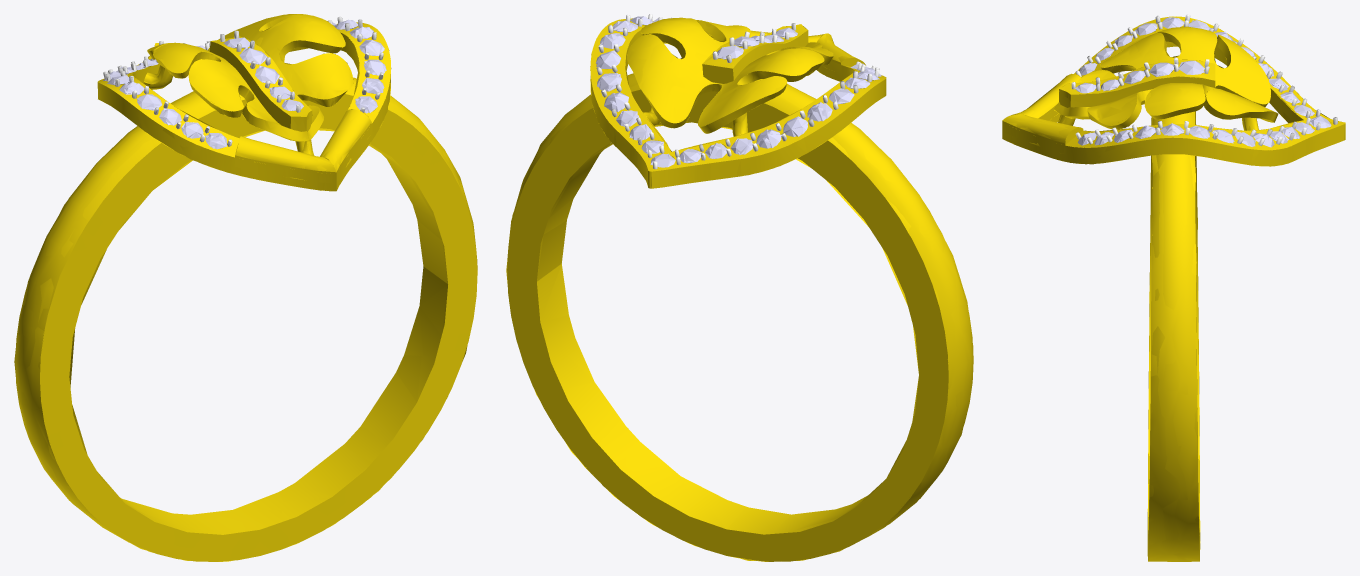
The model's file is DLR-D000657509.glb.
The picture shows the model from 3 angles, left to right: view 1: azimuth 30°, elevation 25°; view 2: azimuth 150°, elevation 25°; view 3: azimuth 270°, elevation 25°; orthographic projection. The views are drawn at different scales.
Visible parts, largest first — view 1: highPolyMesh, lowPolyMesh; view 2: lowPolyMesh, highPolyMesh; view 3: highPolyMesh, lowPolyMesh.
Part boxes in pixels (left/top/right/bottom): highPolyMesh: left=15, top=14, right=477, bottom=561; lowPolyMesh: left=14, top=14, right=477, bottom=561; lowPolyMesh: left=506, top=15, right=973, bottom=561; highPolyMesh: left=507, top=14, right=973, bottom=561; highPolyMesh: left=1002, top=14, right=1345, bottom=561; lowPolyMesh: left=1002, top=14, right=1345, bottom=561.
Size of the model in its own units: 0.0209 by 0.0223 by 0.0144.
